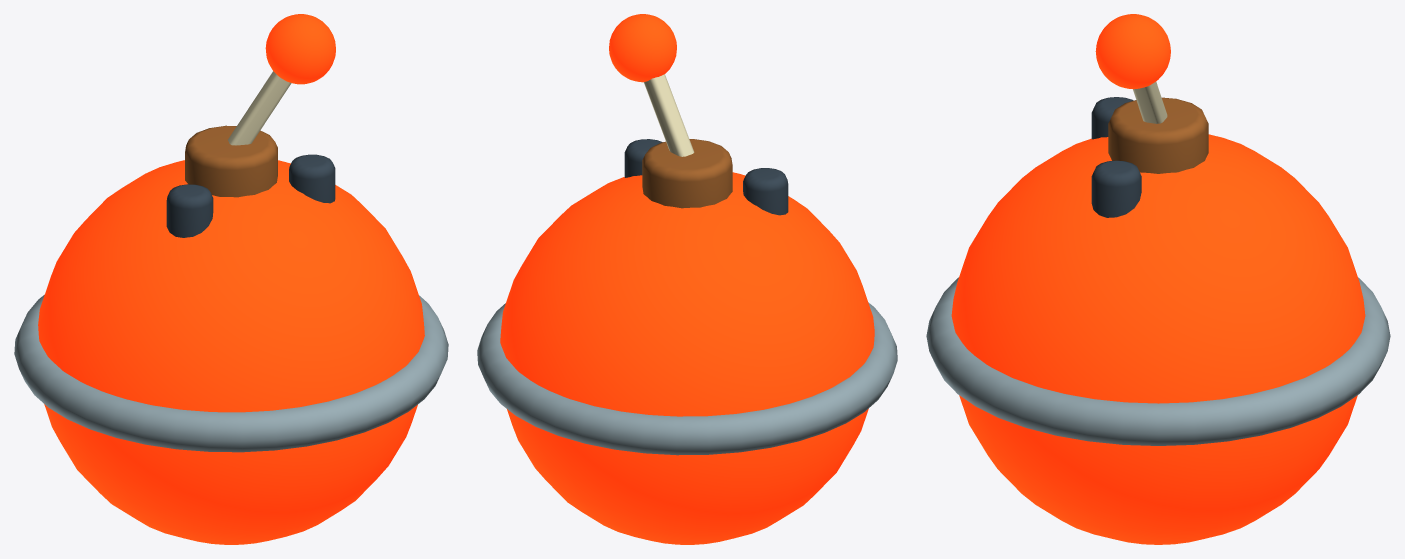
File: Cannon_Special.fbx
3 renders of one model, left to right at view 1: azimuth 30°, elevation 25°; view 2: azimuth 150°, elevation 25°; view 3: azimuth 270°, elevation 25°, orthographic. The views are drawn at different scales.
Visible parts, largest first — view 1: Bomb.001, Reinforcing equator, Fuse socket.001, Spark.001, Charge pin, Charge pin.001, Fuse.001; view 2: Bomb.001, Reinforcing equator, Fuse socket.001, Spark.001, Fuse.001, Charge pin, Charge pin.001; view 3: Bomb.001, Reinforcing equator, Fuse socket.001, Spark.001, Charge pin.001, Fuse.001, Charge pin.
Boxes of the visible parts, x1,y1,x2,y2 form: Bomb.001: (38, 160, 424, 544); Reinforcing equator: (14, 295, 448, 452); Fuse socket.001: (185, 125, 277, 197); Spark.001: (265, 14, 335, 84); Charge pin: (166, 184, 213, 237); Charge pin.001: (289, 154, 335, 203); Fuse.001: (228, 71, 291, 145); Bomb.001: (500, 172, 874, 544); Reinforcing equator: (477, 302, 897, 455); Fuse socket.001: (642, 139, 732, 208); Spark.001: (609, 14, 676, 82); Fuse.001: (643, 74, 694, 156); Charge pin: (743, 168, 788, 215); Charge pin.001: (624, 139, 662, 177); Bomb.001: (951, 134, 1365, 544); Reinforcing equator: (926, 277, 1390, 445); Fuse socket.001: (1108, 97, 1208, 173); Spark.001: (1095, 14, 1170, 89); Charge pin.001: (1091, 160, 1141, 217); Fuse.001: (1133, 81, 1167, 123); Charge pin: (1091, 97, 1133, 139).
Size of the model in its own units: 111 by 142 by 111.
